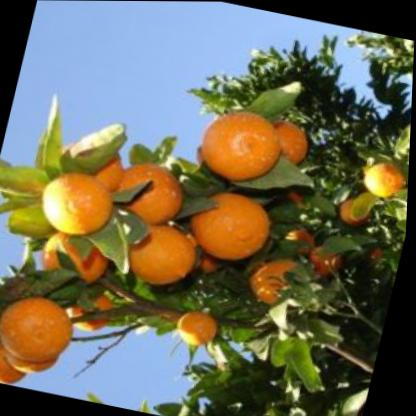---: (188, 101, 293, 194), (25, 159, 130, 247), (181, 183, 284, 270), (0, 287, 83, 374), (120, 213, 207, 296)
